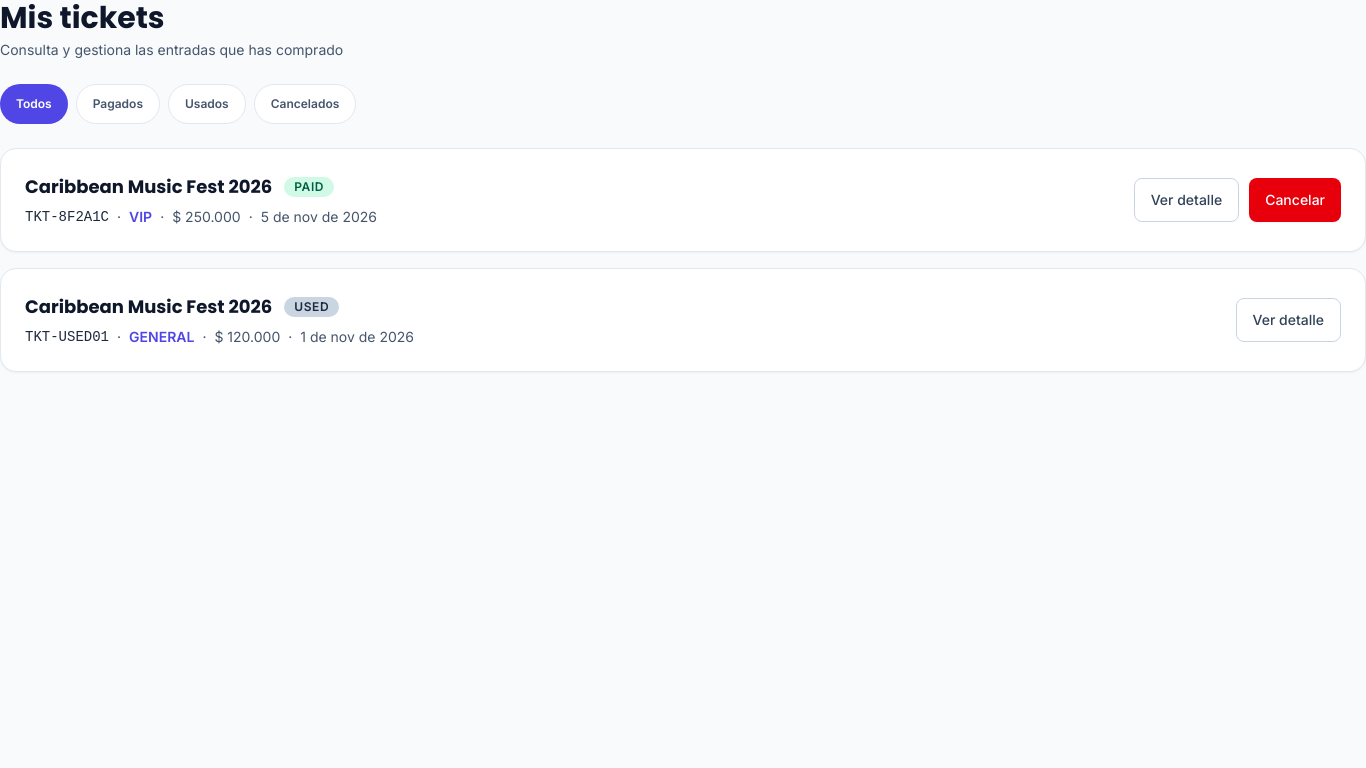
Test: Tickets y Compra › TEST-FE-TKT-008: error 409 al cancelar muestra mensaje y mantiene abierto el modal
Click the button "Cancelar" at coordinates (1295, 200), box [1249,178,1341,222]
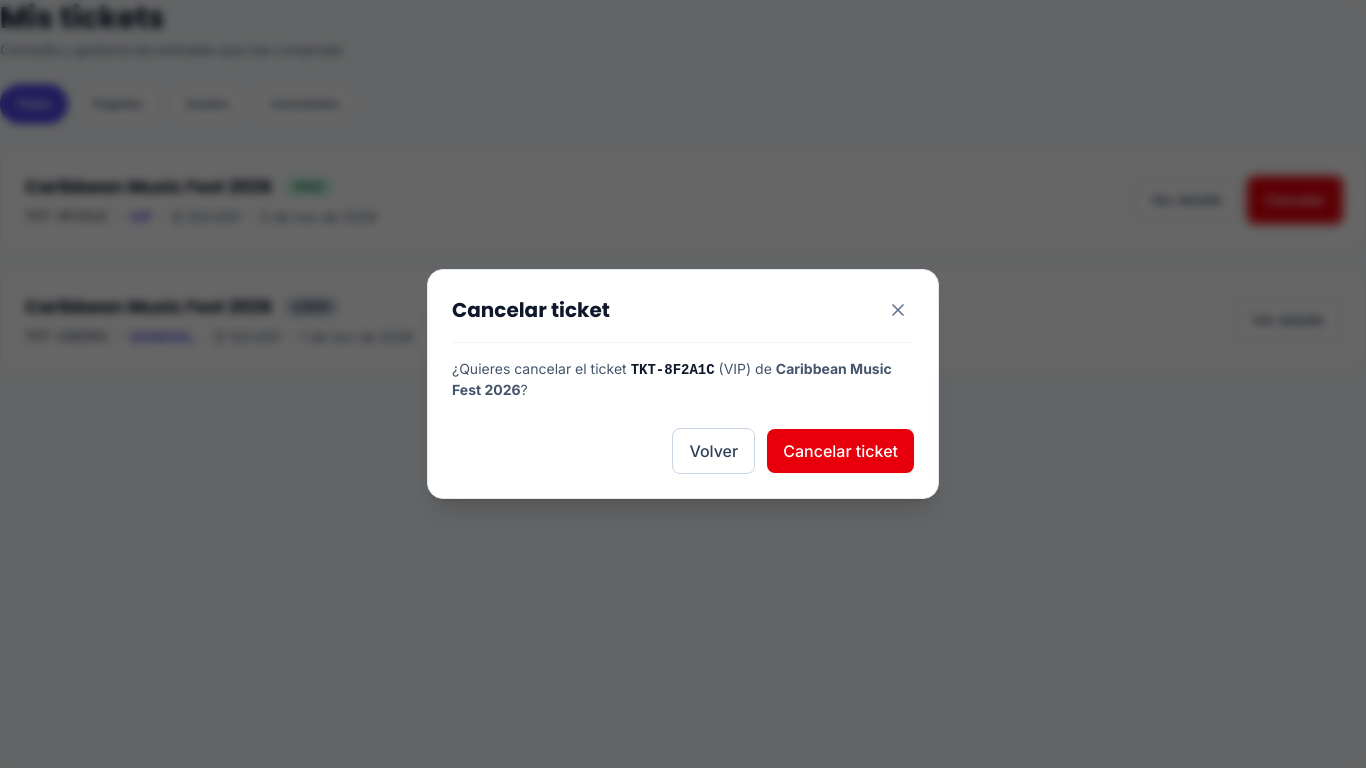
Click the button "Cancelar ticket" at coordinates (841, 451), box [767,429,914,473]
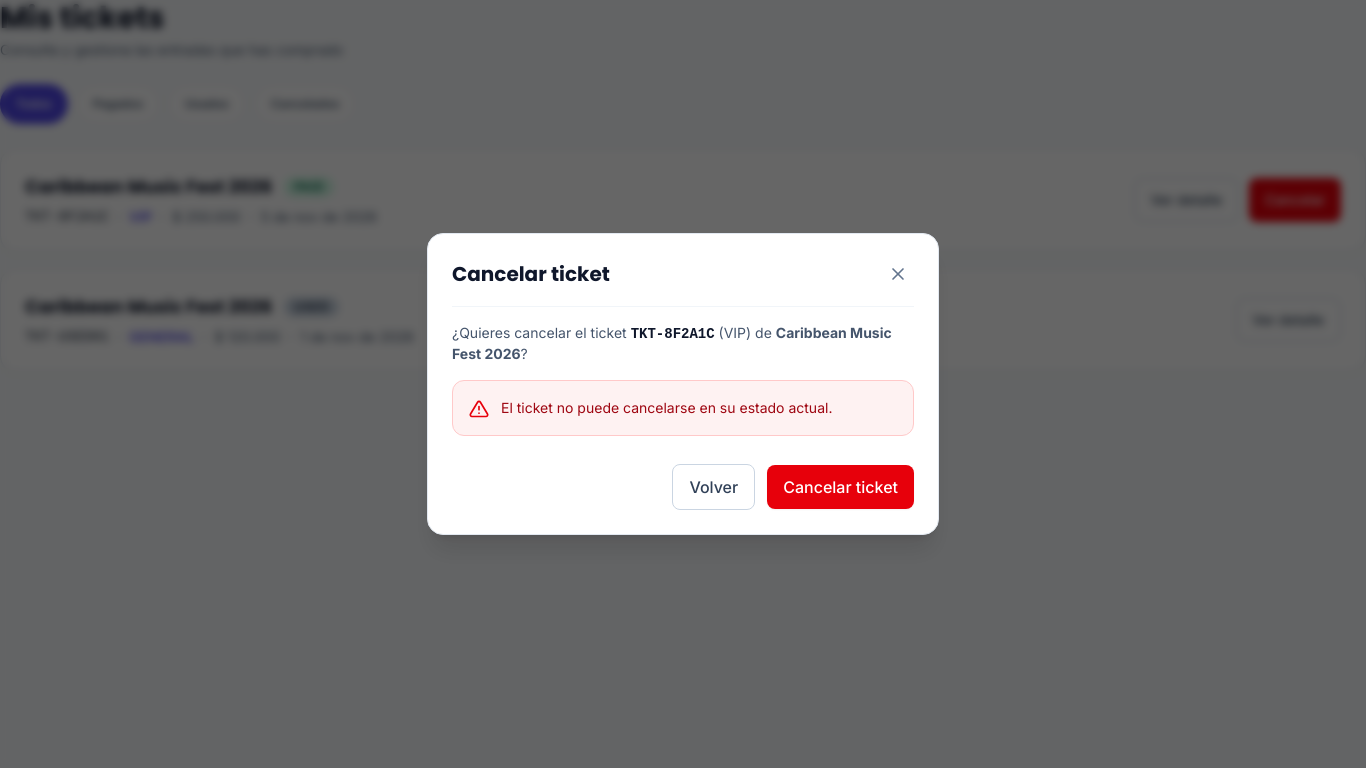
Result: the text "El ticket no puede cancelarse en su estado actual." is shown at [501,399,832,416]
